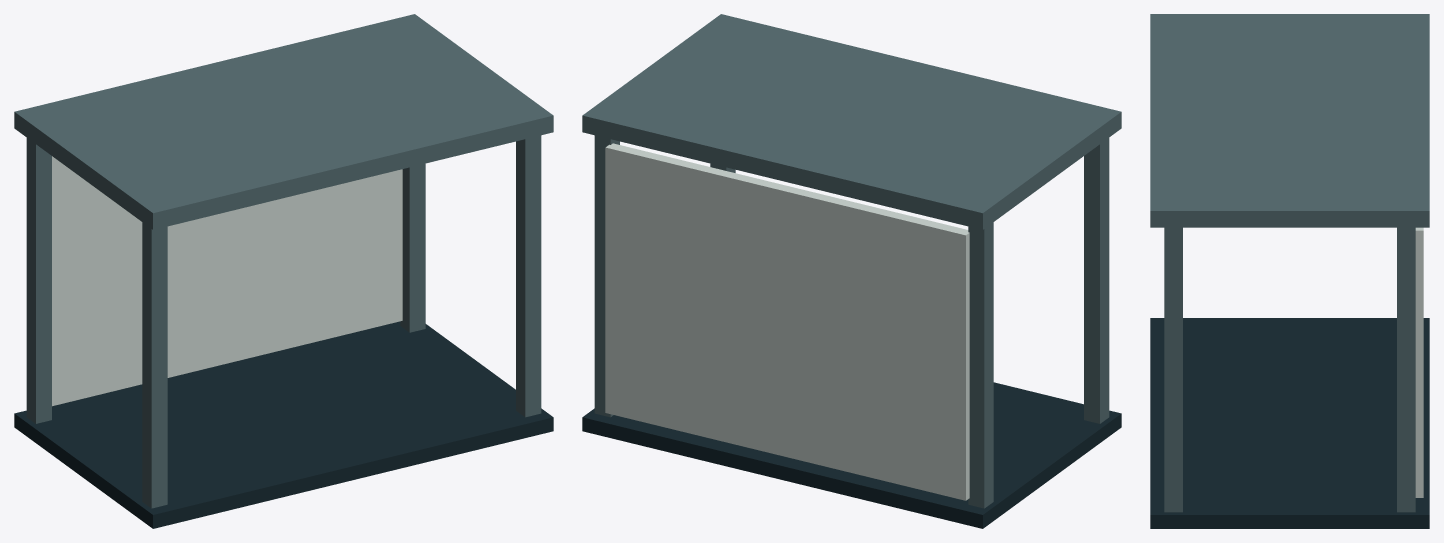
Rendered from shelter-frame.glb.
The picture shows the model from 3 angles, left to right: view 1: azimuth 30°, elevation 25°; view 2: azimuth 150°, elevation 25°; view 3: azimuth 270°, elevation 25°; orthographic projection.
Parts seen in each view (by area): view 1: roof, floor, back_wall, front_upright (×2), upright (×2); view 2: back_wall, roof, floor, upright (×2), front_upright; view 3: roof, floor, upright, front_upright, back_wall.
Boxes of the visible parts, left/top/right/bottom form: roof: left=14, top=14, right=553, bottom=229; floor: left=14, top=321, right=553, bottom=528; back_wall: left=52, top=156, right=402, bottom=406; front_upright (×2): left=142, top=135, right=541, bottom=508; upright (×2): left=26, top=138, right=425, bottom=423; back_wall: left=605, top=143, right=969, bottom=500; roof: left=582, top=14, right=1121, bottom=229; floor: left=582, top=382, right=1121, bottom=528; upright (×2): left=594, top=135, right=993, bottom=508; front_upright: left=1084, top=138, right=1109, bottom=423; roof: left=1150, top=14, right=1429, bottom=227; floor: left=1150, top=318, right=1429, bottom=528; upright: left=1397, top=227, right=1415, bottom=512; front_upright: left=1164, top=227, right=1182, bottom=512; back_wall: left=1415, top=227, right=1423, bottom=497.
Bounding box in the file's own units: 3 × 2.26 × 1.8.
